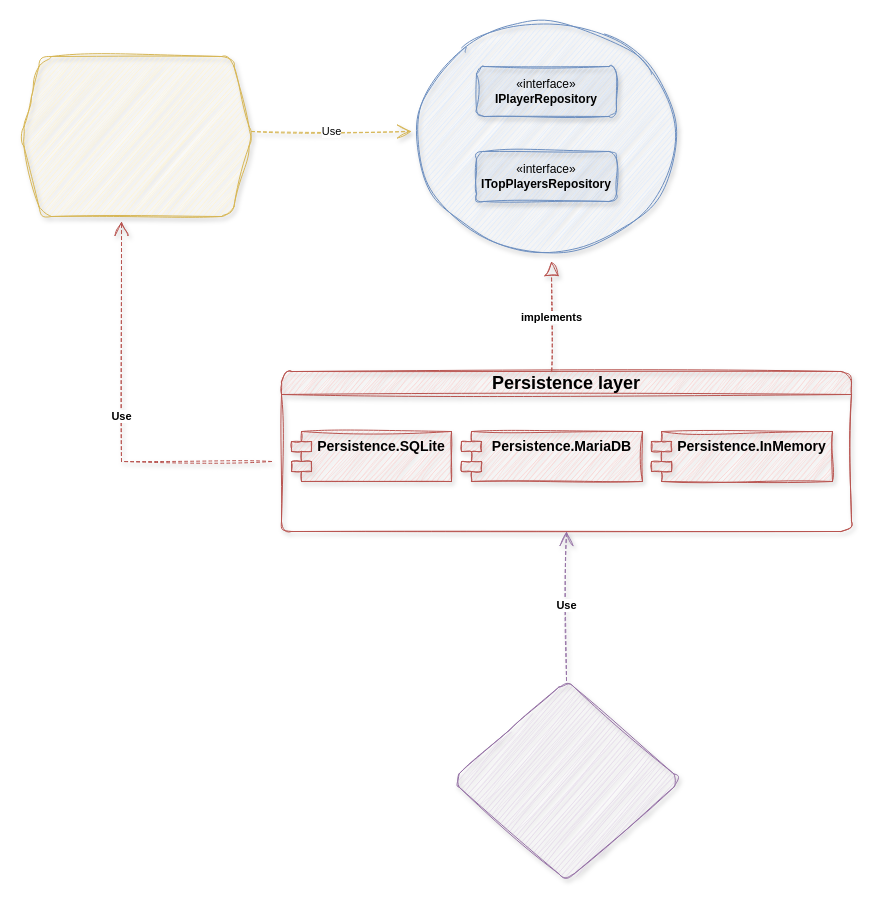
The diagram is 875 pixels wide and 905 high, and some of its shapes have lost their labels. Here are the shapes that lost their labels. From the top down, the centre of each, then its label:
the point at 137,138: Application Core
the point at 567,782: Host Application (Entry Point)
